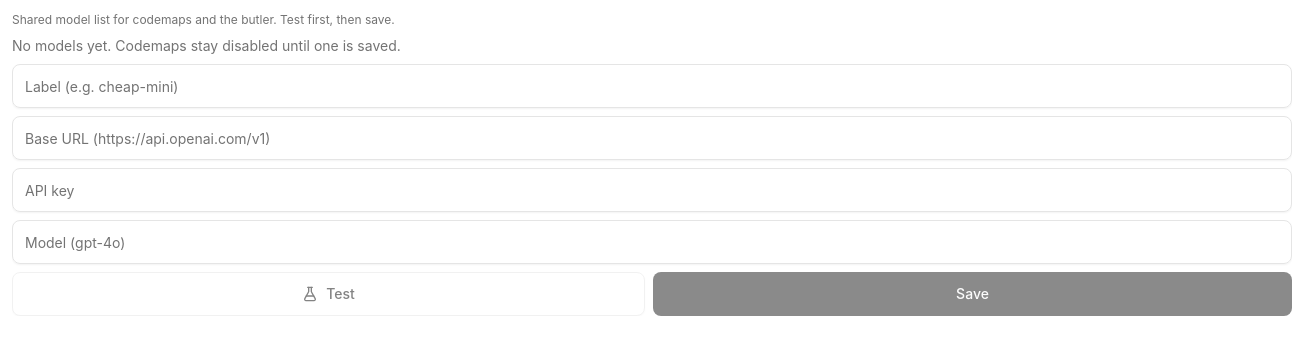
Test: AICard › saves only after testing and lists the new row
The image size is (1304, 357).
Expected: the text "No models yet. Codemaps stay disabled until one is saved." is shown, [12,37,401,54]
Type "mini" into the field with test id "ai-label" at (652, 86), box [12,64,1292,108]
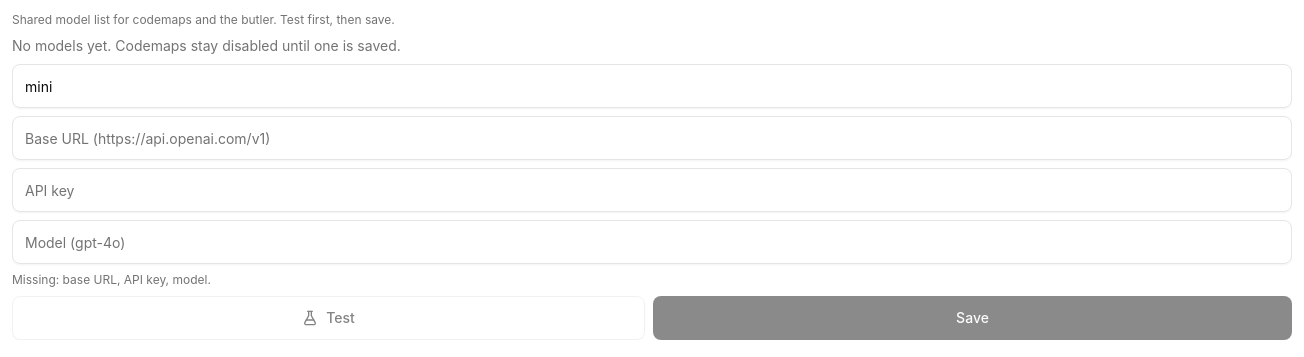
Type "https://x" into the field with test id "ai-base-url" at (652, 138), box [12,116,1292,160]
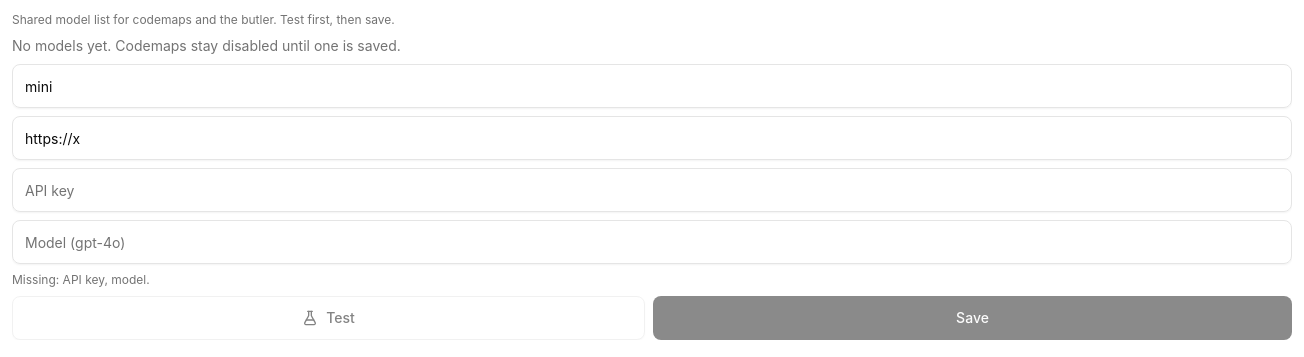
Type "k" into the password field with test id "ai-api-key" at (652, 190), box [12,168,1292,212]
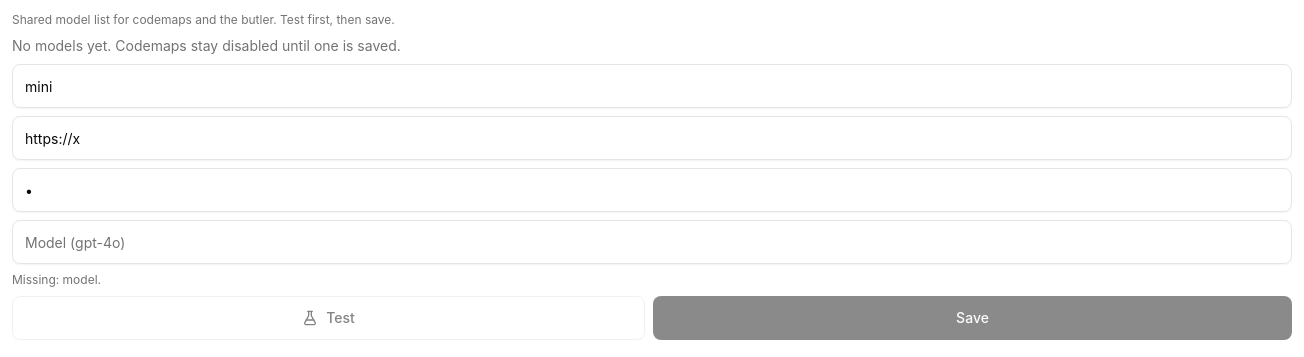
Type "m" into the field with test id "ai-model" at (652, 242), box [12,220,1292,264]
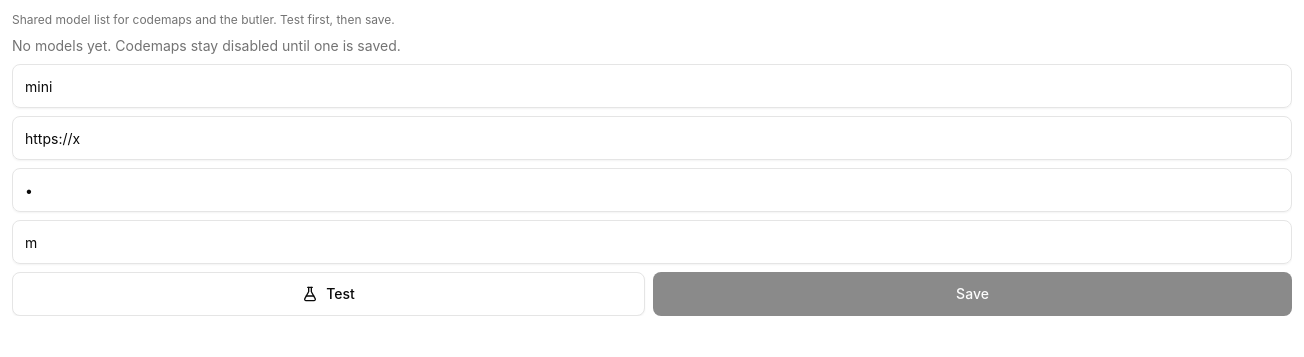
Click the button with test id "ai-test" at (328, 294), box [12,272,645,316]
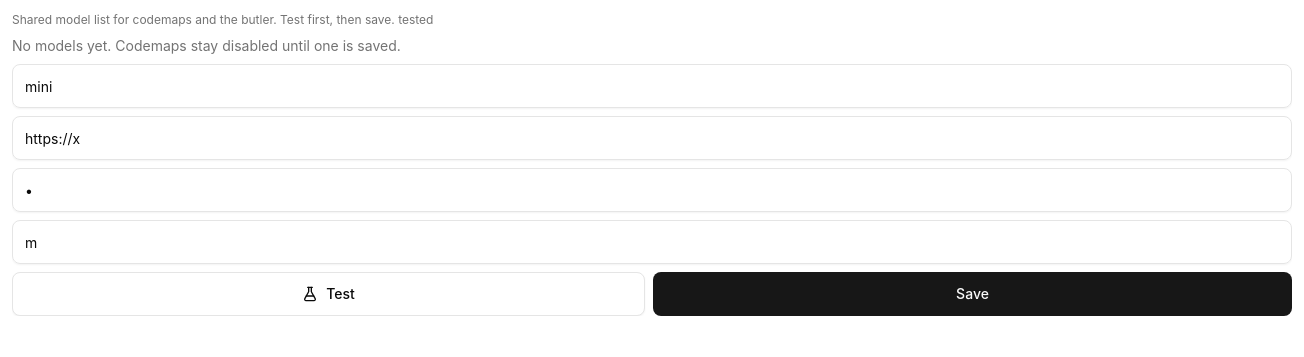
Expected: the button with test id "ai-save" is enabled
Click the button with test id "ai-save" at (972, 294), box [653,272,1292,316]
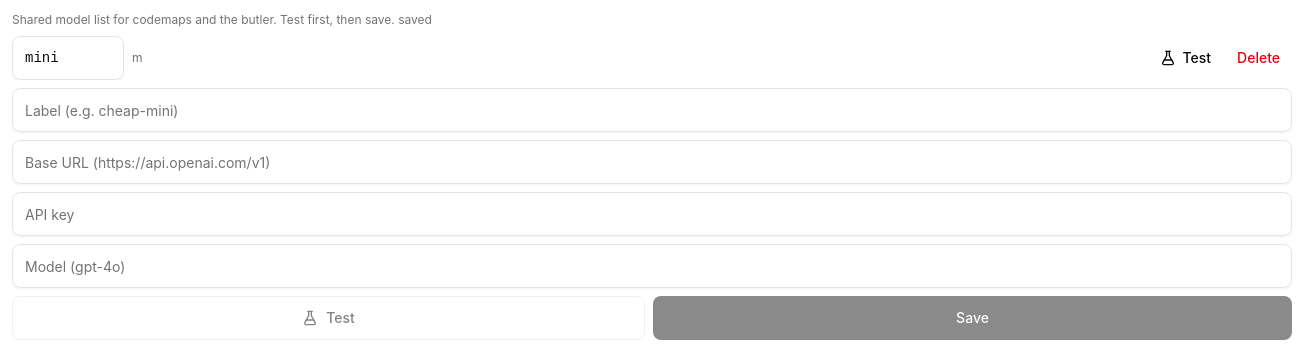
Expected: the field showing "mini" is shown, [12,36,124,80]
